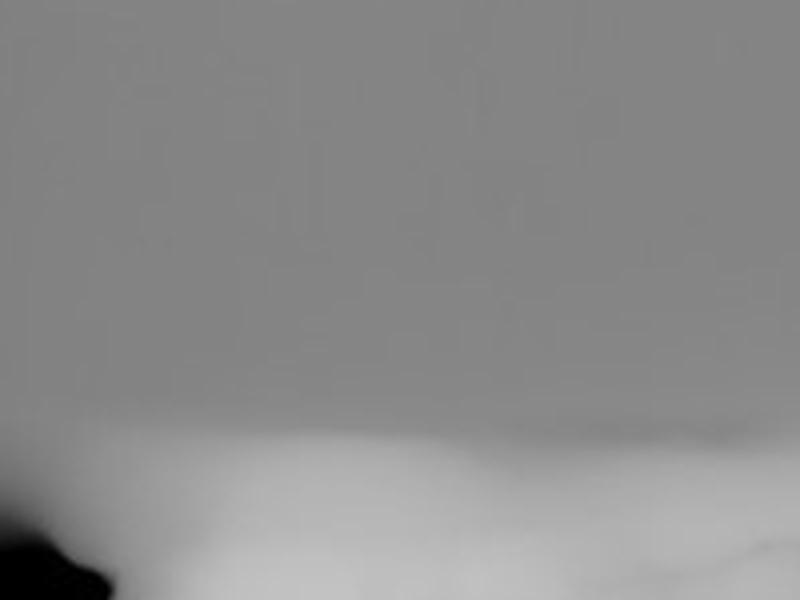defect: (1, 533, 115, 599)
